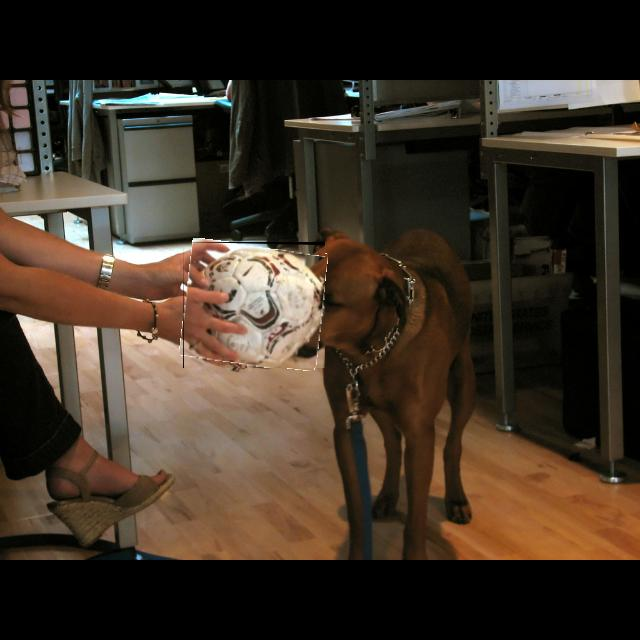Football: (183, 242, 325, 368)
